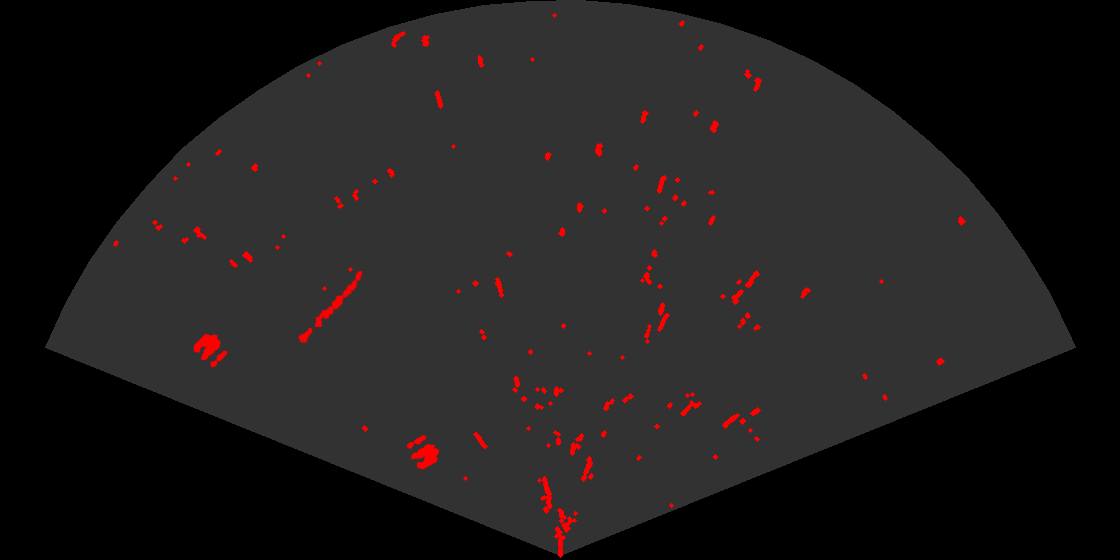ball: (192, 332, 229, 369), (405, 433, 441, 471)
chain: (296, 269, 364, 345)
